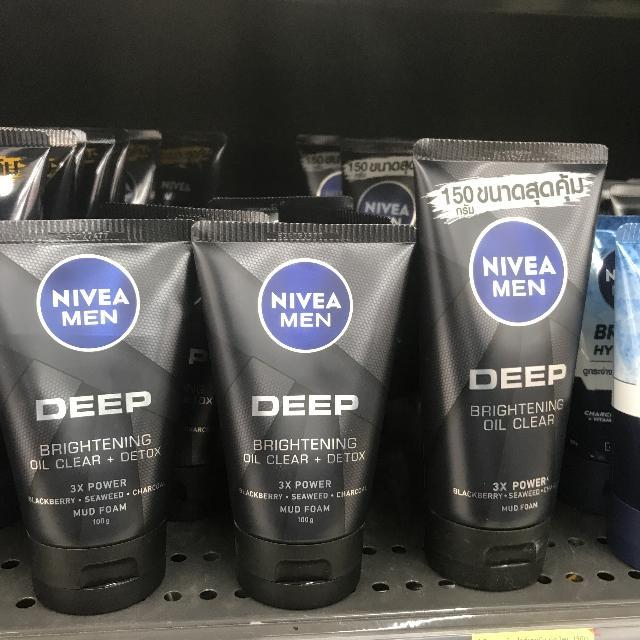Squeeze Tube: (414, 142, 606, 591), (210, 225, 421, 617), (5, 218, 194, 615)
